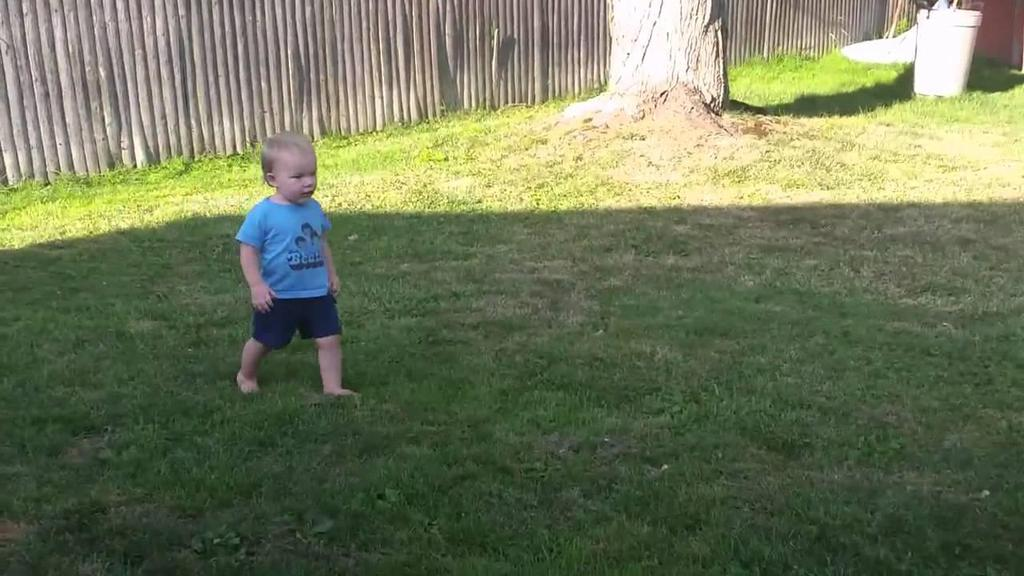child: (212, 128, 387, 402)
